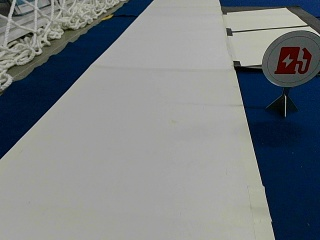battery: (261, 30, 318, 89)
